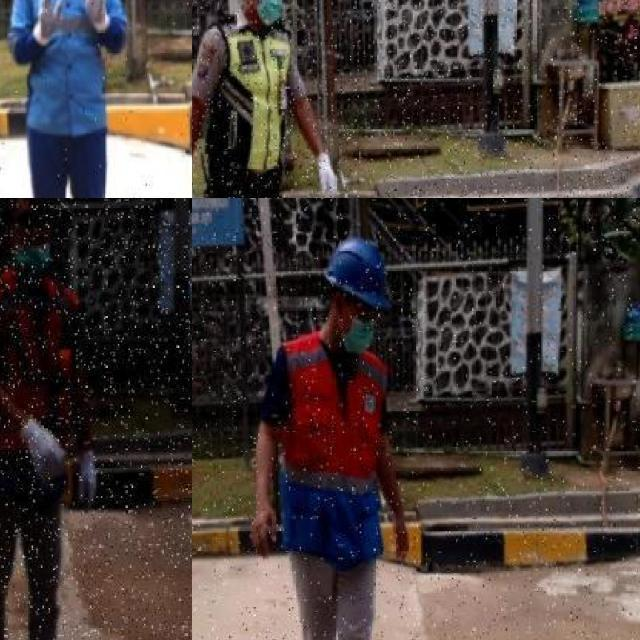apron: (15, 416, 70, 486), (30, 0, 67, 56), (71, 0, 114, 42), (76, 448, 100, 514), (312, 147, 339, 198)
